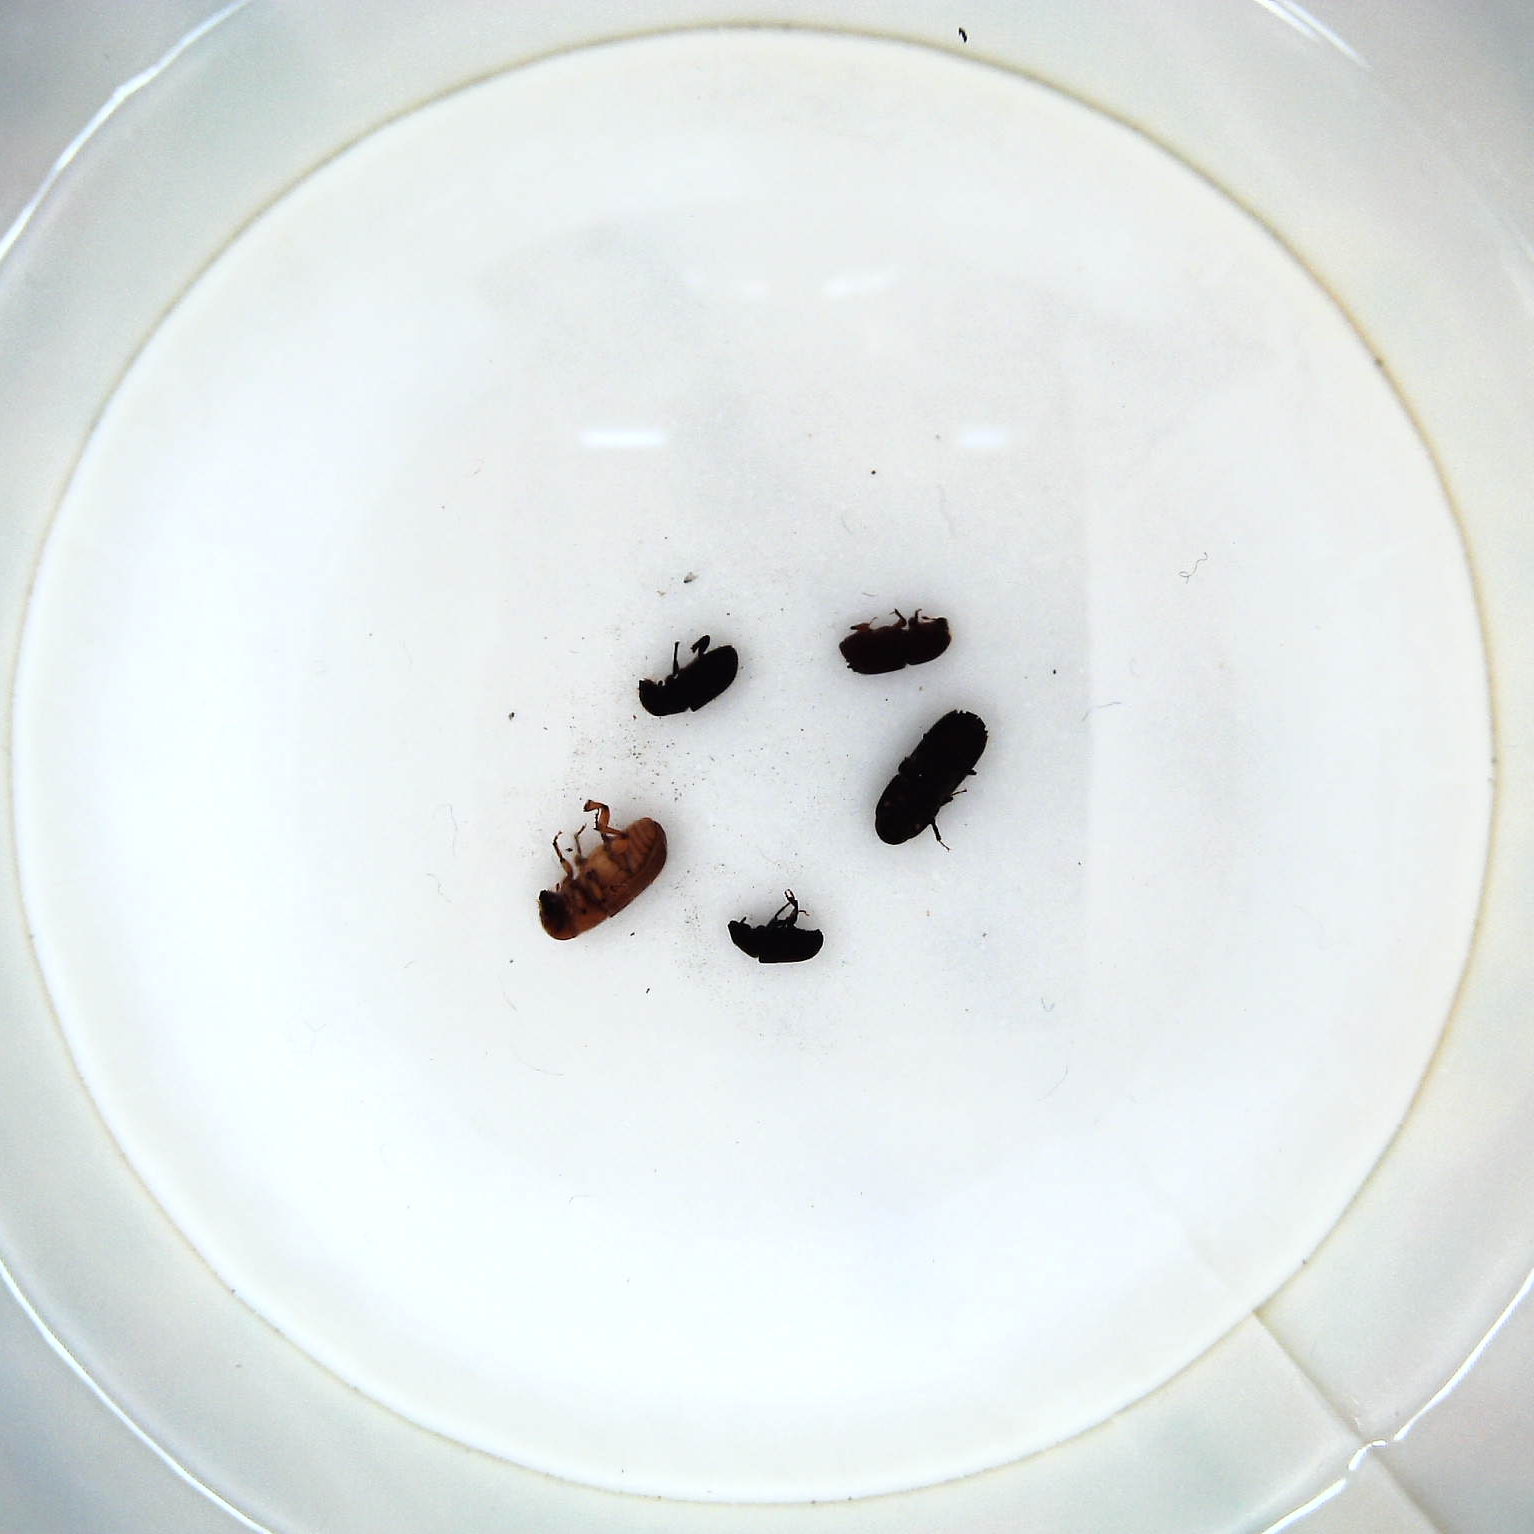Boerner: (868, 704, 997, 853)
Leconte: (534, 795, 676, 941)
armandi: (634, 629, 746, 722)
coleoptera: (723, 891, 832, 971)
linnaeus: (834, 607, 959, 683)
